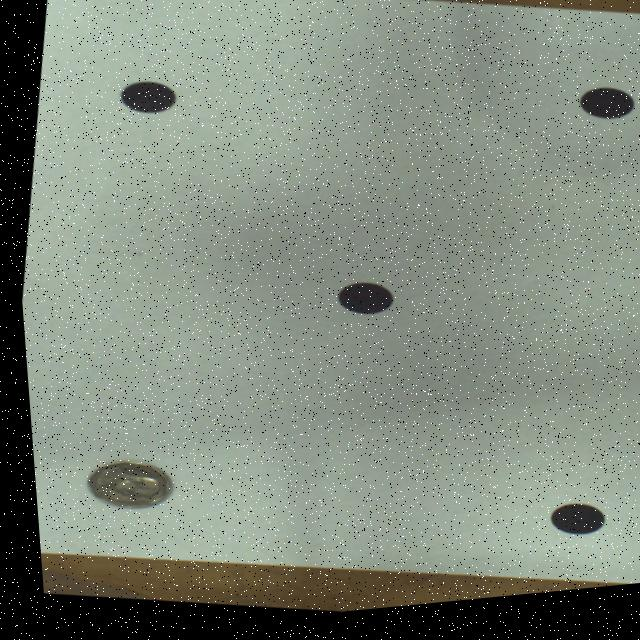head5bath: (80, 463, 163, 511)
space: (332, 289, 387, 321), (576, 100, 631, 131), (118, 85, 173, 116), (541, 514, 594, 546)
